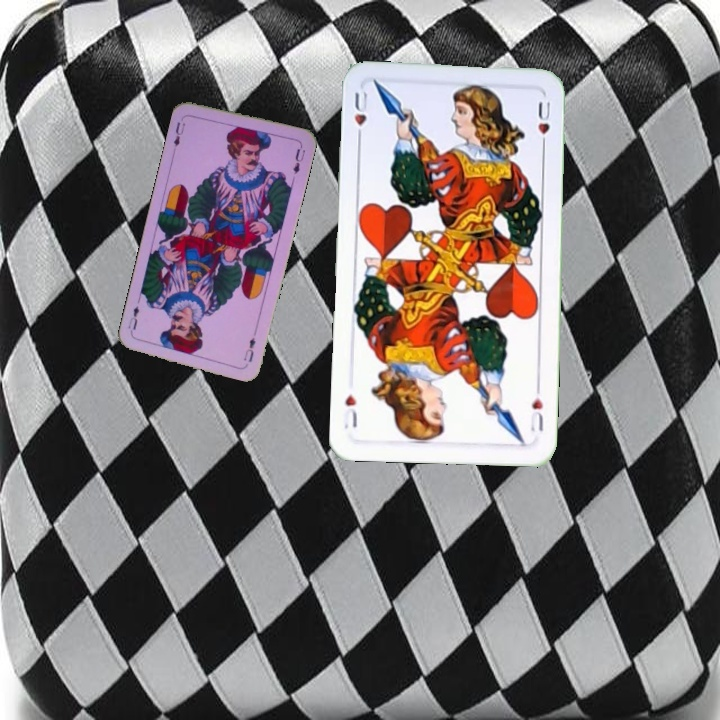EU: (170, 113, 188, 150), (239, 333, 258, 365)
HU: (350, 88, 370, 145), (526, 381, 546, 434)
